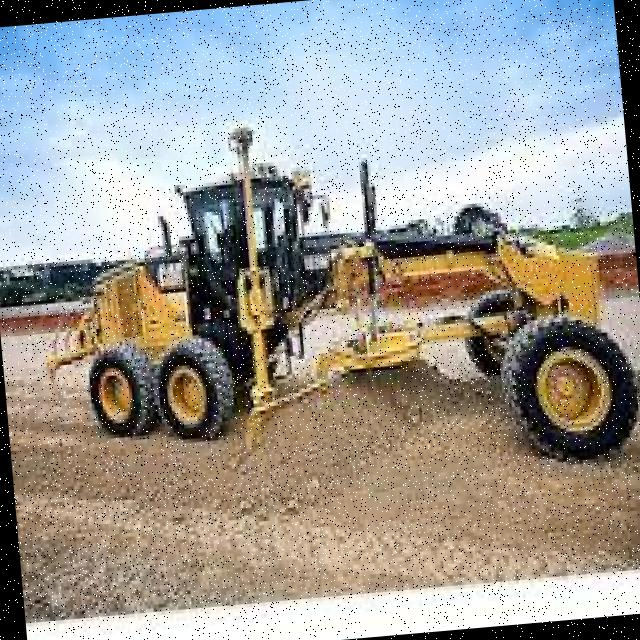Grader: (26, 102, 640, 531)
